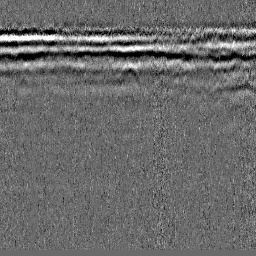cavity: (117, 61, 141, 86)
